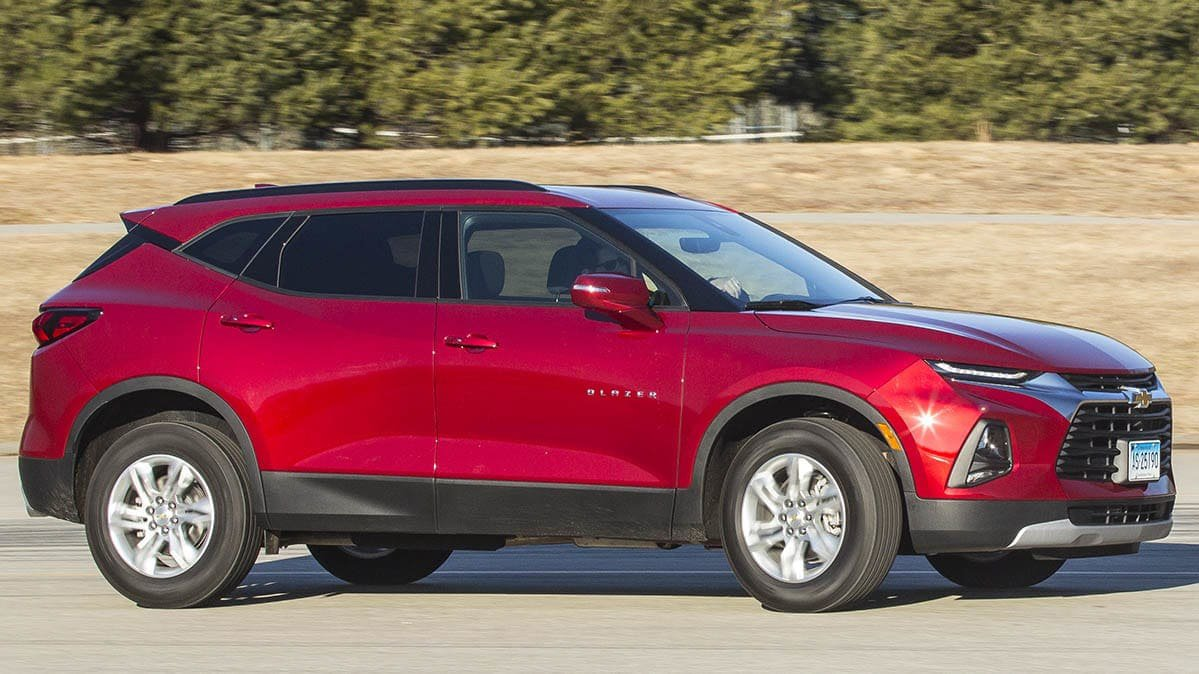car: (22, 178, 1177, 613)
